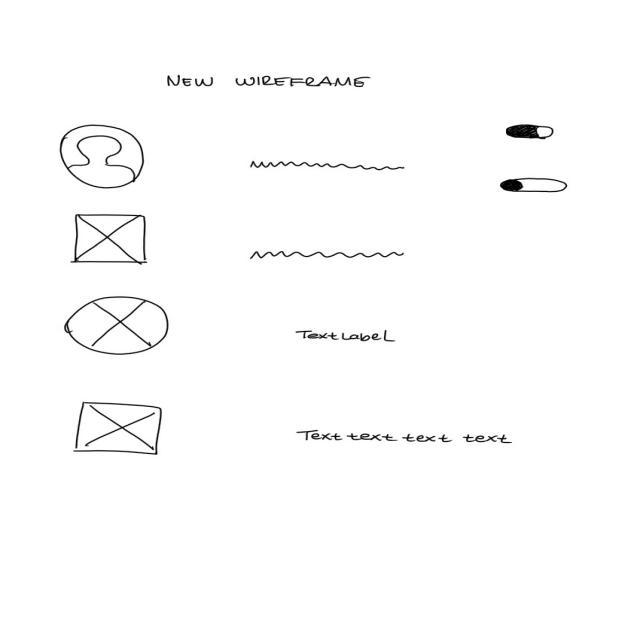image: (64, 297, 171, 357), (59, 125, 148, 191), (72, 401, 165, 458), (72, 213, 152, 267)
label: (296, 429, 516, 447), (165, 74, 374, 90), (295, 330, 401, 345)
text: (248, 160, 408, 174), (249, 250, 407, 262)
toggle: (499, 176, 569, 195), (505, 124, 557, 141)
